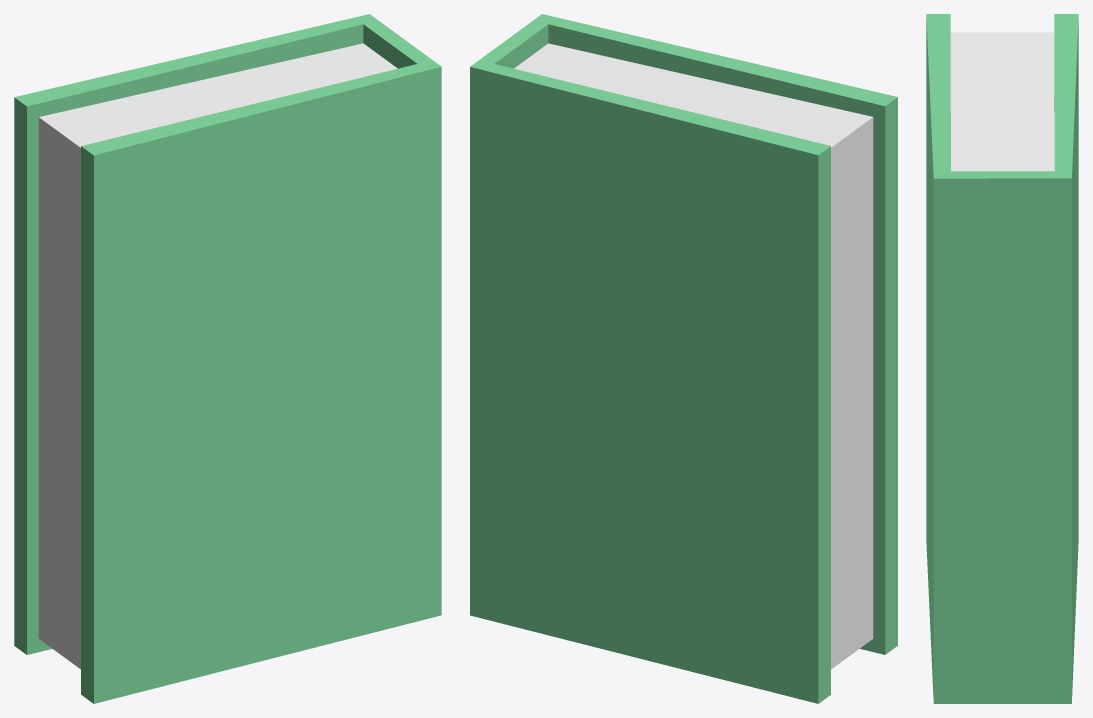
The model's file is buku.fbx.
3 views of the same model, side by side, from view 1: azimuth 30°, elevation 25°; view 2: azimuth 150°, elevation 25°; view 3: azimuth 270°, elevation 25° (orthographic). The views are drawn at different scales.
Parts seen in each view (by area): view 1: Cube.063; view 2: Cube.063; view 3: Cube.063.
Boxes of the visible parts, box(x1,y1,x2,y2) form: Cube.063: box(14, 14, 441, 703); Cube.063: box(470, 14, 897, 703); Cube.063: box(926, 14, 1078, 703).
Bounding box in the file's own units: 18.11 × 26.97 × 7.09.
